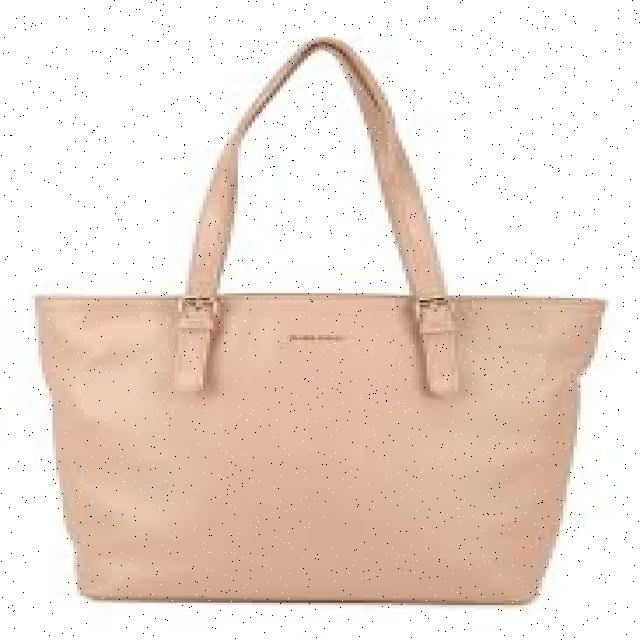handbag: (32, 35, 605, 603)
